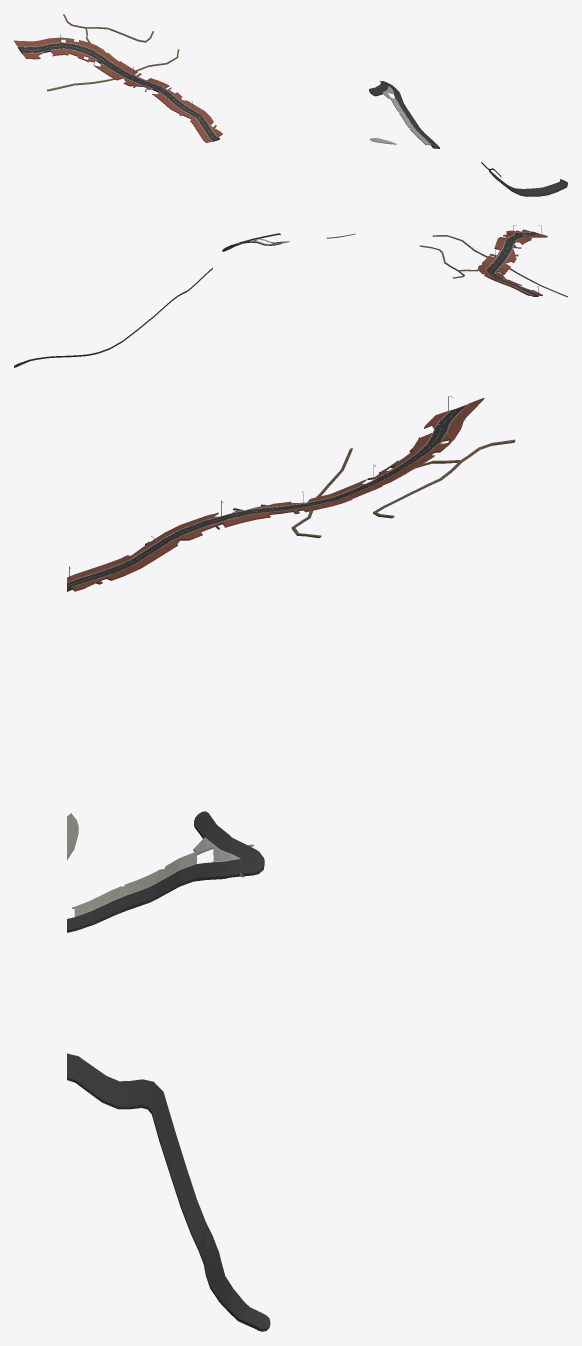
3 views of the same model, one above another, from view 1: azimuth 30°, elevation 25°; view 2: azimuth 150°, elevation 25°; view 3: azimuth 270°, elevation 25° (orthographic). The views are drawn at different scales.
Size of the model in its own units: 457 by 202 by 178.
